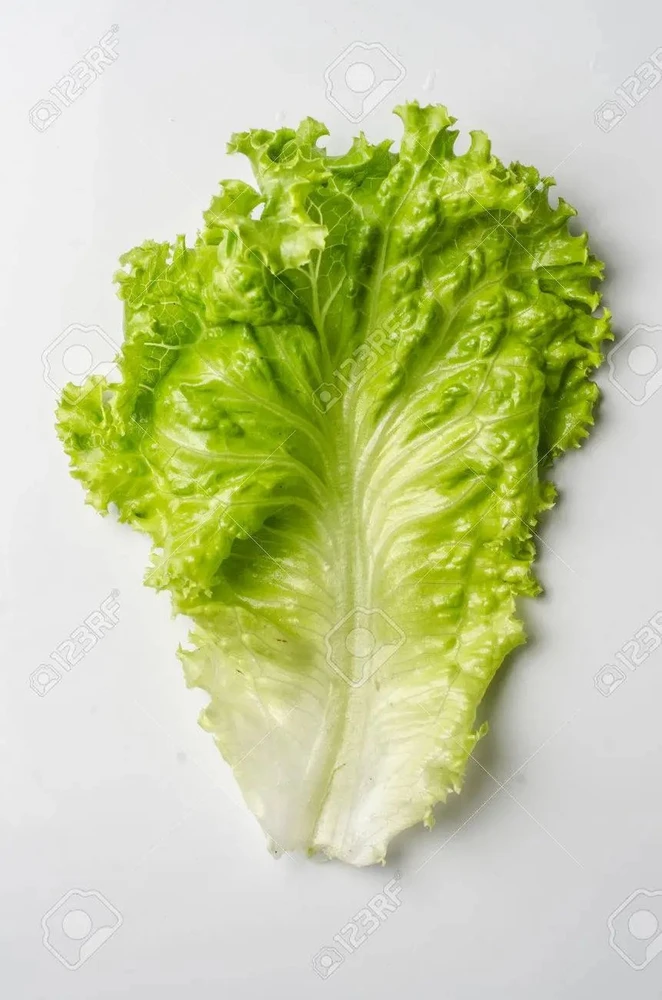lettuce: (56, 84, 651, 946)
